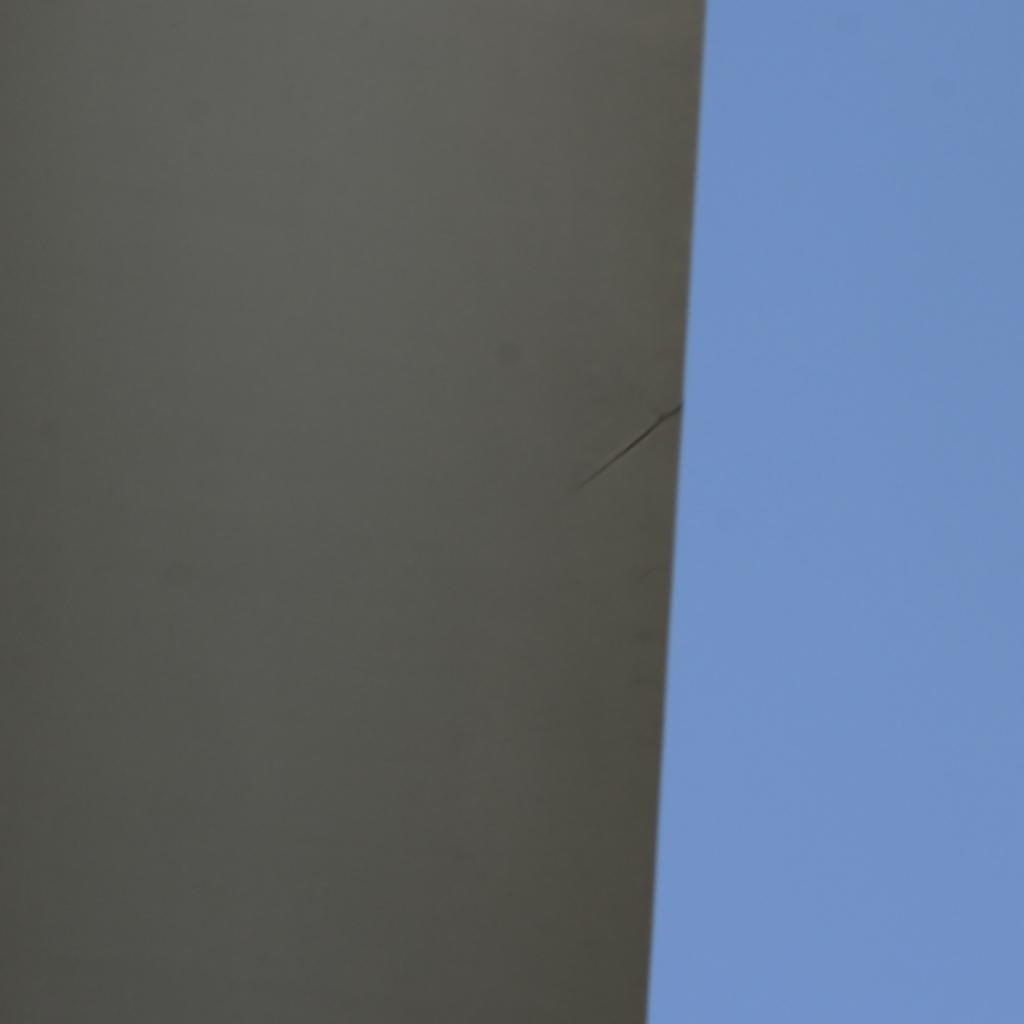hide_craze: (578, 406, 681, 486)
